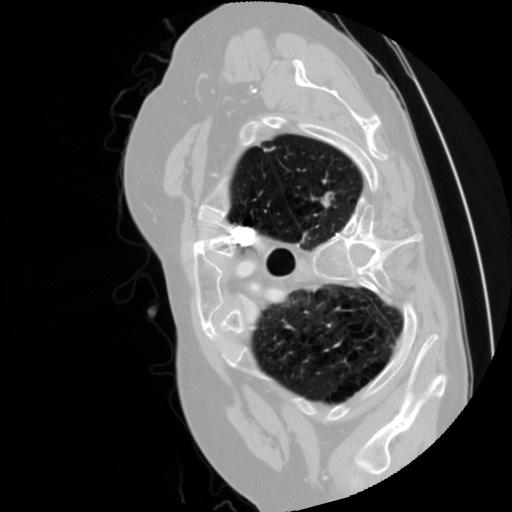nodule: (317, 189, 337, 209)
